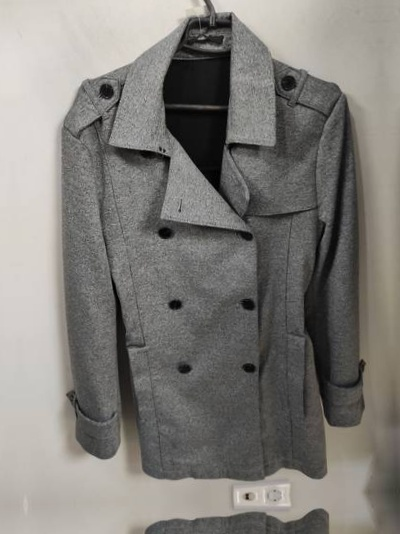Blazer: (35, 15, 381, 483), (54, 513, 400, 534), (396, 1, 400, 470), (0, 528, 15, 534)
